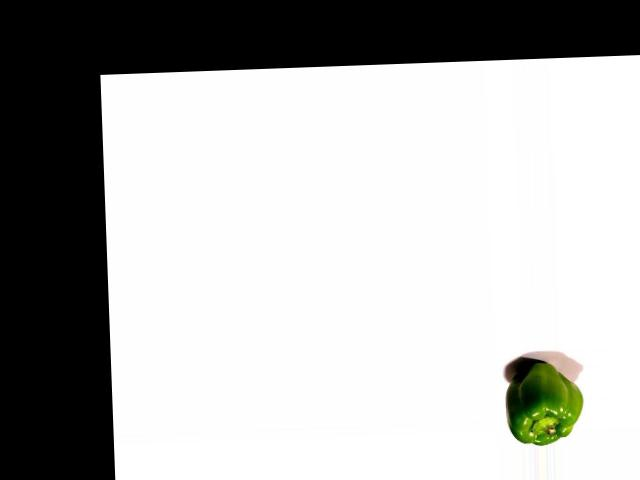bell_pepper: (502, 356, 587, 446)
